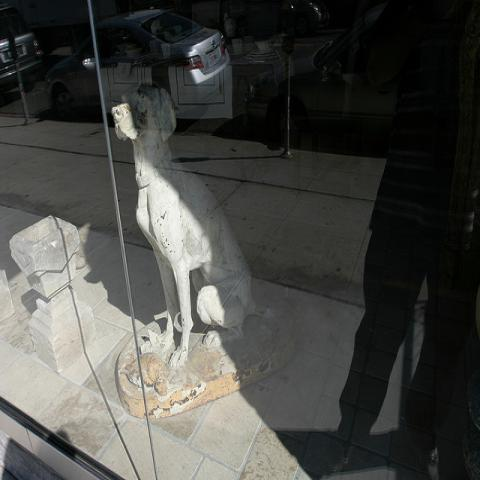car: (43, 8, 234, 121), (0, 1, 44, 107)
